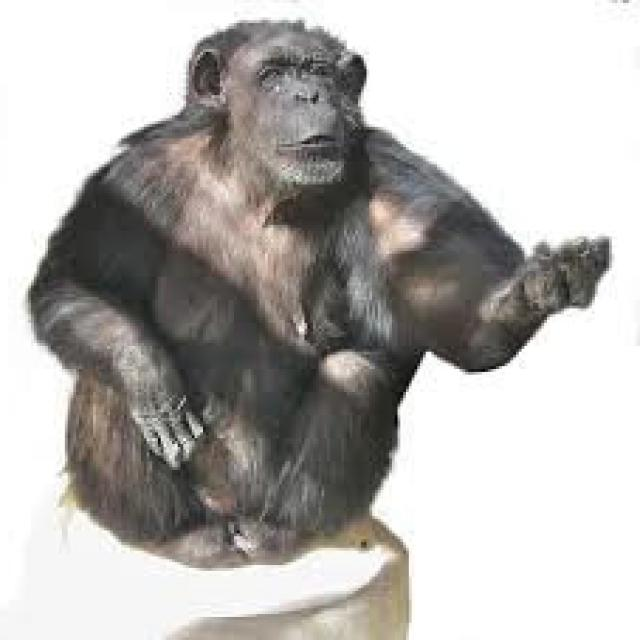chimpanzee: (31, 20, 609, 562)
